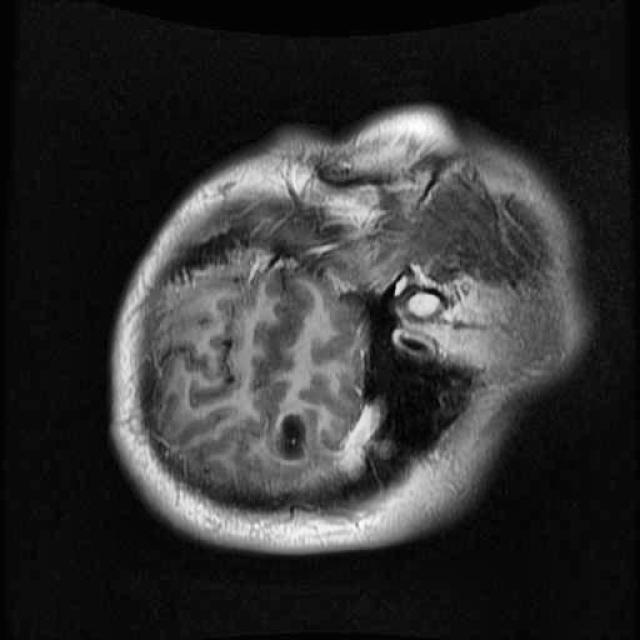Tumor: (333, 392, 392, 483)
